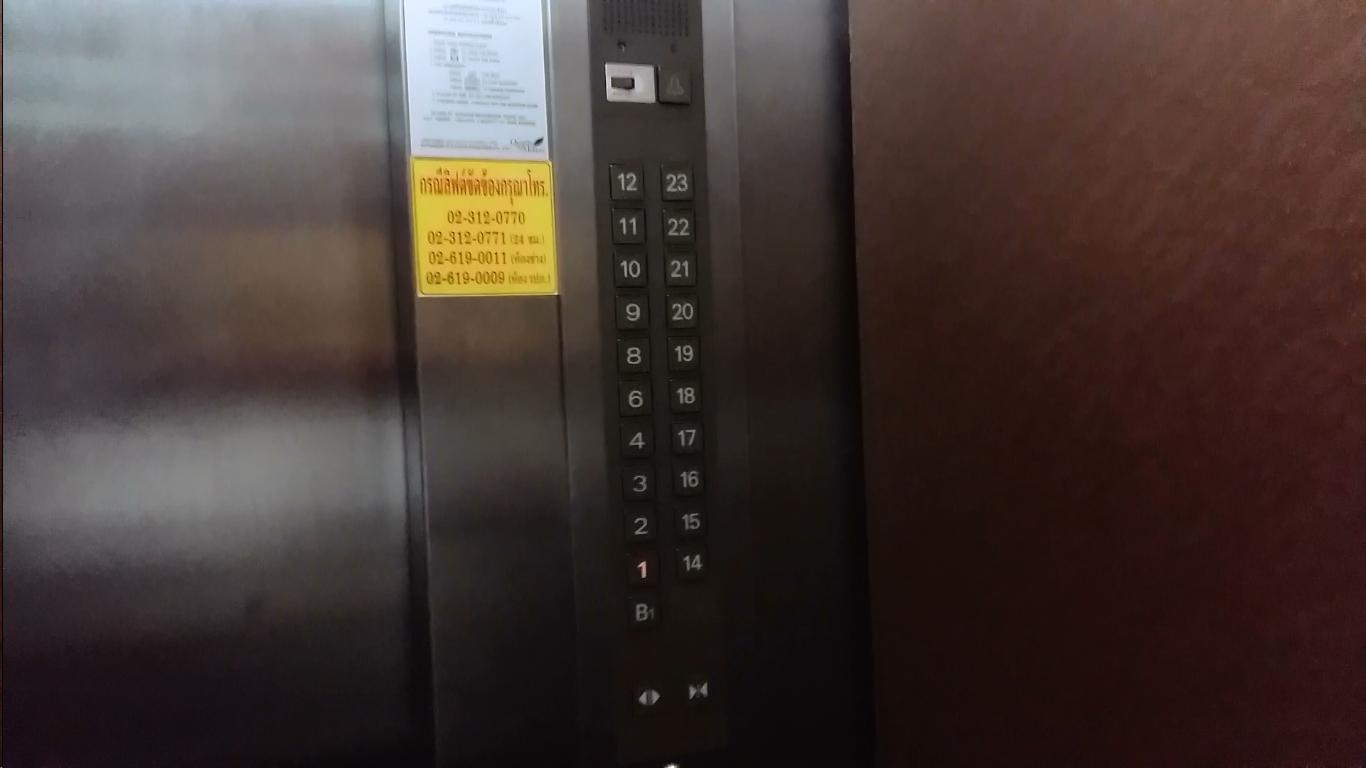1: (623, 546, 662, 588)
10: (611, 249, 650, 290)
11: (609, 206, 647, 245)
12: (606, 158, 646, 201)
14: (674, 540, 709, 581)
15: (672, 499, 708, 540)
16: (669, 458, 705, 499)
17: (668, 417, 704, 458)
18: (666, 374, 703, 416)
19: (664, 331, 701, 373)
2: (621, 504, 659, 545)
21: (663, 289, 700, 331)
22: (659, 202, 697, 245), (661, 245, 699, 288)
23: (657, 159, 696, 202)
3: (619, 462, 658, 503)
4: (617, 420, 657, 461)
6: (615, 377, 655, 419)
8: (614, 334, 652, 376)
9: (612, 291, 652, 332)
B1: (623, 588, 665, 630)
alarm: (658, 63, 694, 104)
blur: (605, 63, 656, 102)
close: (677, 672, 717, 707)
open: (628, 679, 670, 717)
